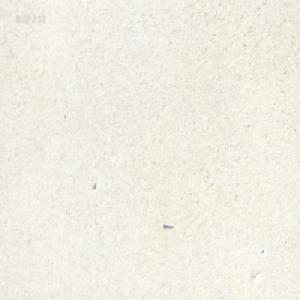Nail: (162, 221, 173, 229)
